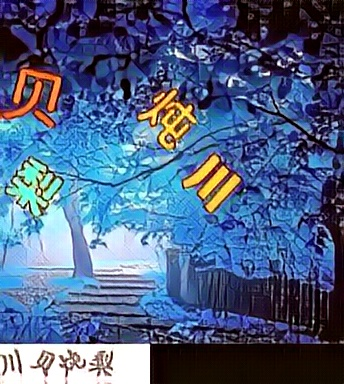B1B4: (4, 66, 66, 130)
B4A8: (179, 147, 241, 211)
C0E6: (4, 154, 66, 218)
ECC0: (137, 90, 199, 154)
